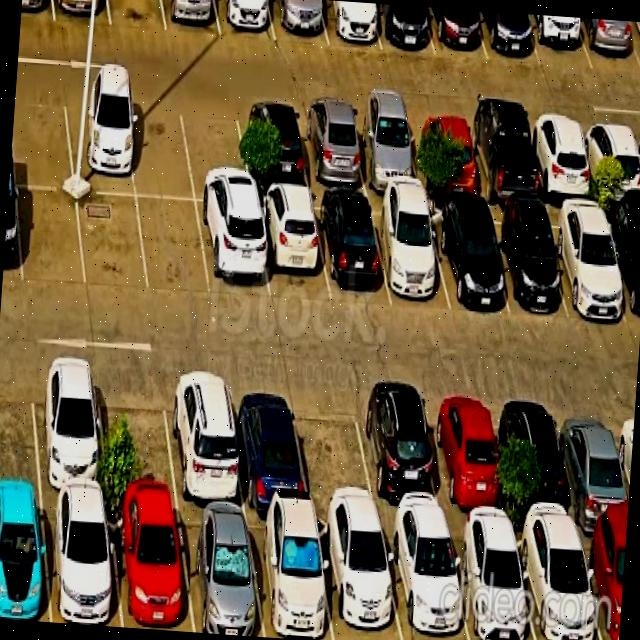empty: (291, 383, 377, 518), (96, 365, 178, 504), (179, 98, 251, 204), (136, 197, 210, 295), (77, 192, 148, 294), (125, 95, 194, 199), (17, 187, 85, 286), (11, 85, 74, 188), (0, 359, 39, 491), (107, 0, 166, 31)
occupied: (353, 387, 446, 522), (422, 389, 508, 527), (176, 507, 264, 637), (107, 502, 193, 632), (163, 371, 244, 509), (246, 512, 333, 640), (227, 376, 309, 510), (315, 515, 402, 640), (30, 359, 107, 498), (499, 392, 577, 529), (42, 495, 121, 627), (381, 523, 469, 640), (447, 524, 535, 640), (554, 396, 629, 531), (513, 527, 601, 640), (544, 206, 628, 319), (426, 205, 509, 314), (369, 199, 450, 310), (482, 208, 566, 313), (312, 195, 390, 302), (254, 192, 329, 302), (63, 90, 135, 195), (196, 203, 269, 300), (463, 115, 540, 204), (407, 112, 480, 198), (236, 103, 309, 189), (0, 494, 49, 622), (295, 105, 367, 190), (349, 108, 421, 192), (525, 118, 596, 202), (577, 530, 626, 640), (579, 120, 640, 204), (602, 208, 640, 326), (525, 14, 592, 69), (575, 17, 640, 72), (477, 10, 540, 64), (371, 3, 434, 54), (426, 7, 487, 59), (318, 0, 381, 49), (214, 0, 275, 40), (269, 0, 327, 42), (161, 0, 220, 36), (2, 182, 21, 283), (52, 0, 110, 25), (20, 0, 54, 20), (627, 21, 640, 61)
